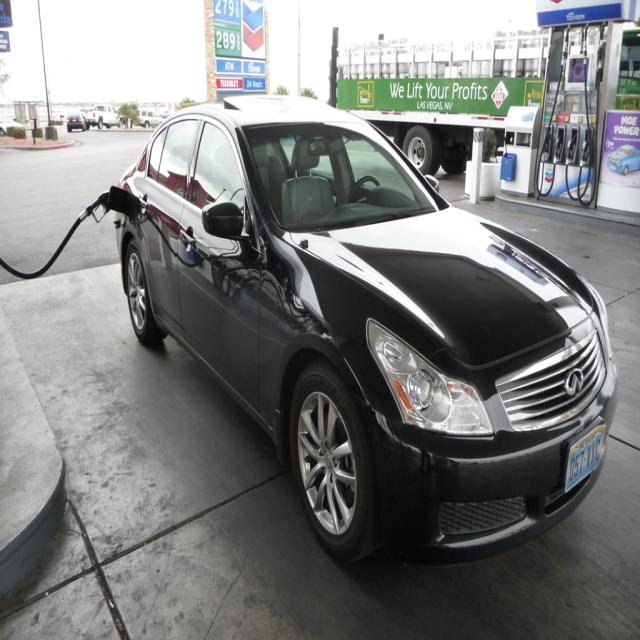car: (107, 91, 617, 566), (86, 99, 125, 130), (59, 102, 90, 134), (133, 107, 164, 129)
